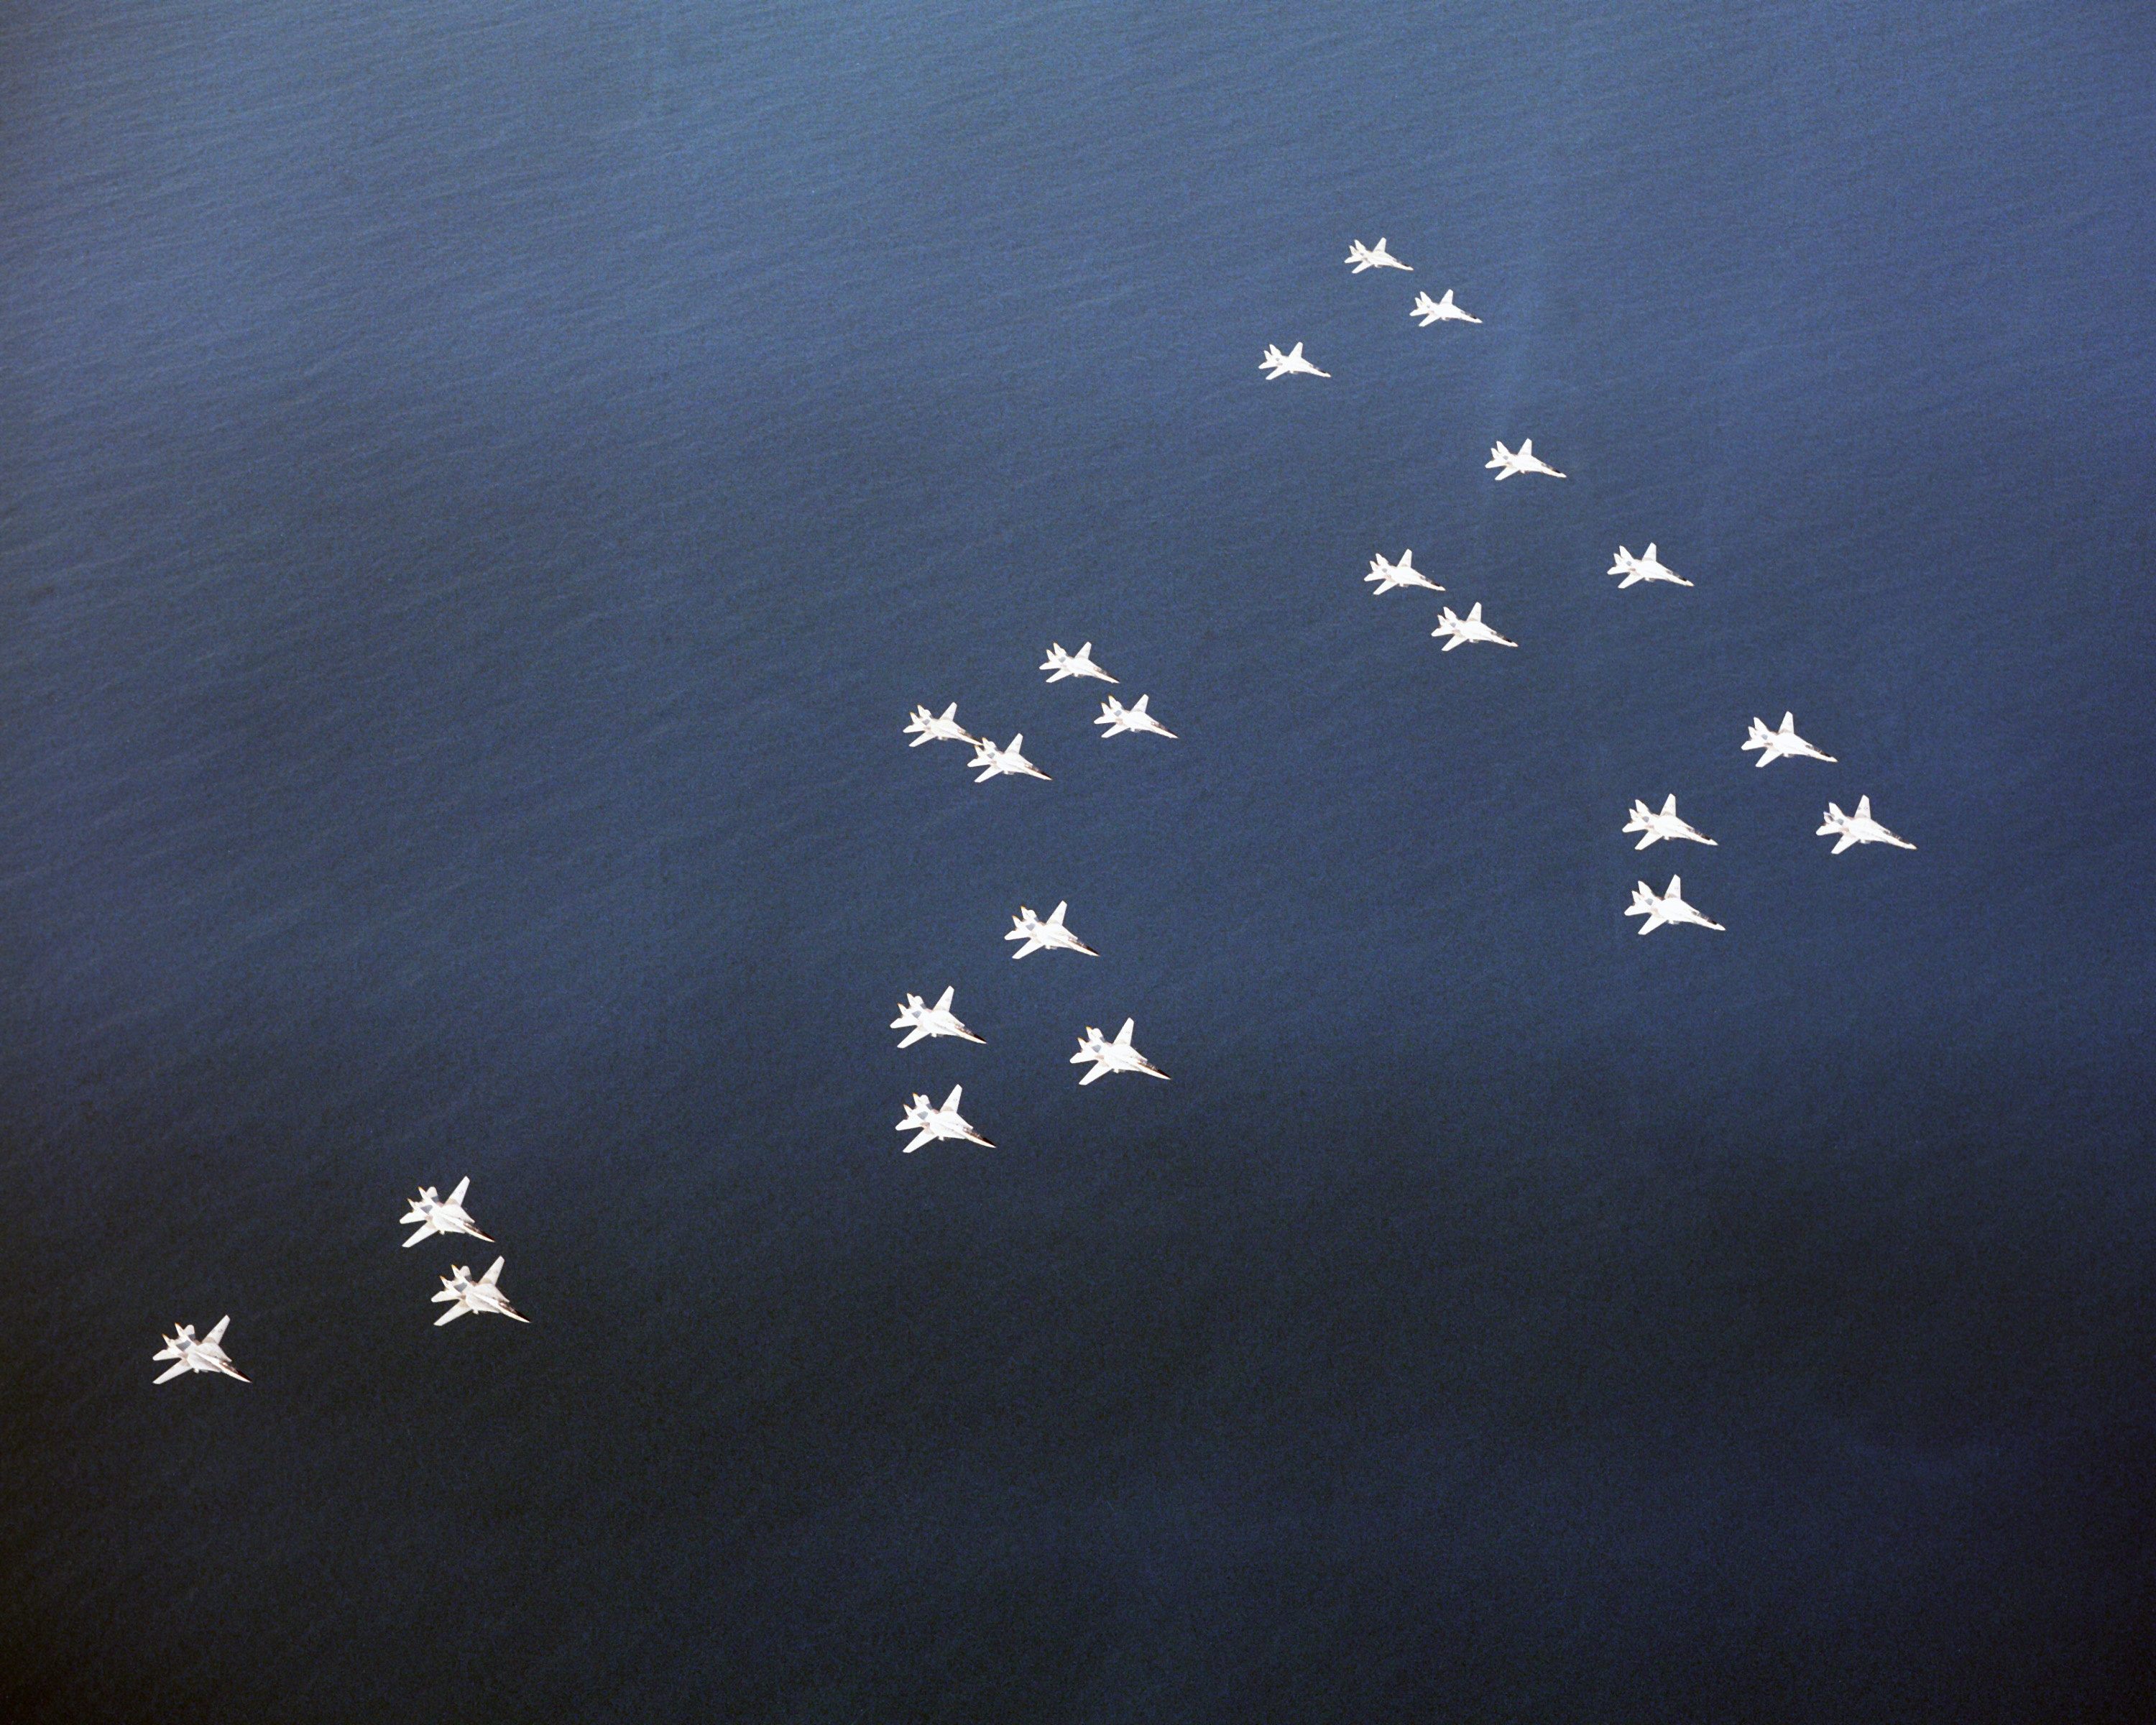F14: (151, 1313, 255, 1385), (1068, 1016, 1172, 1086), (894, 1084, 998, 1153), (431, 1255, 532, 1325), (400, 1176, 496, 1248), (1623, 875, 1727, 936), (1815, 794, 1918, 855), (891, 984, 987, 1049), (1003, 899, 1102, 961), (1741, 709, 1839, 769), (1621, 792, 1720, 850), (1429, 600, 1519, 651), (966, 732, 1054, 783), (1605, 540, 1695, 590), (1364, 547, 1447, 597), (1093, 694, 1179, 739), (901, 702, 984, 748), (1038, 641, 1123, 685), (1484, 437, 1568, 481), (1257, 341, 1332, 380), (1408, 289, 1484, 327), (1343, 236, 1415, 275)
